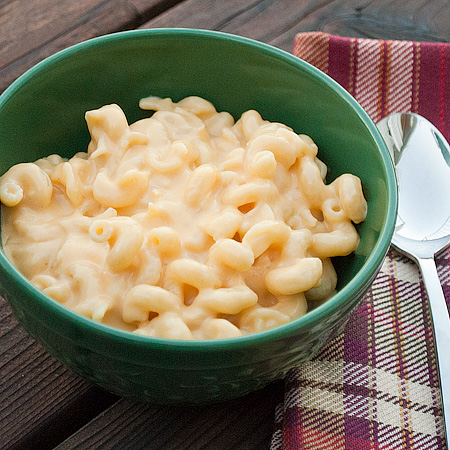macncheese: (1, 83, 375, 345)
